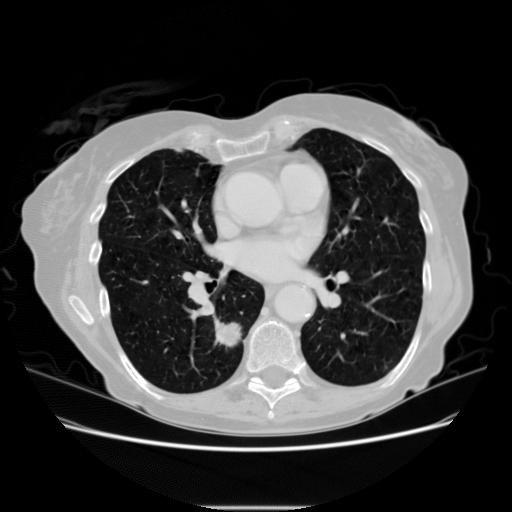nodule: (213, 318, 243, 348)
